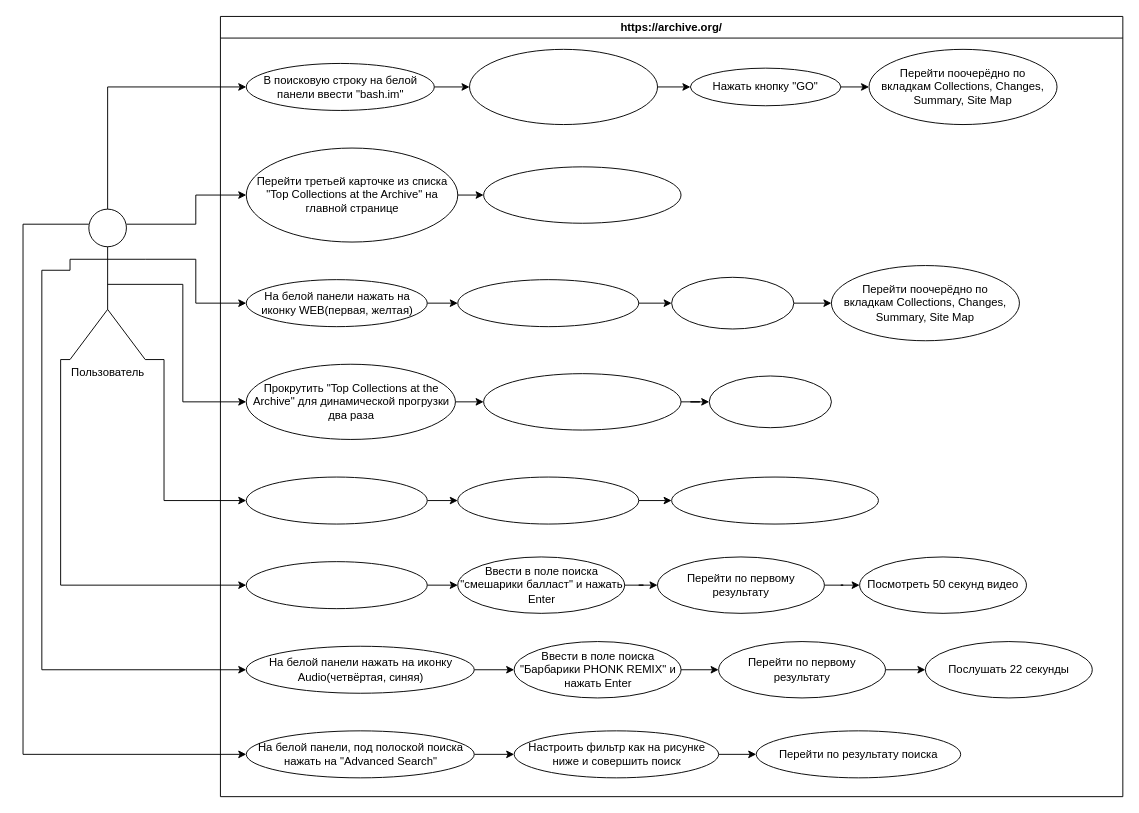
The diagram is 1139 pixels wide and 813 high, and some of its shapes have lost their labels. The centre of each missing label's shape, as x and y in pixels:
Ввести в поиск "pikabu.ru": (548,303)
Выбрать в раскрывшемся меню опцию "Search archived web sites": (563,86)
На белой панели нажать на иконку Texts(вторая, желтая): (336,500)
На белой панели нажать на иконку Video(третья, красная): (336,585)
Нажать кнопку "BROWSE HISTORY": (732,302)
Перейти на вкладку "About" у открывшейся коллекции: (582,194)
Перейти на вкладку "FORUM": (548,500)
Перейти на вкладку About: (769,401)
Перейти по 87-ой карточке: (582,401)
Перейти по второй ссылке списка: (774,500)
